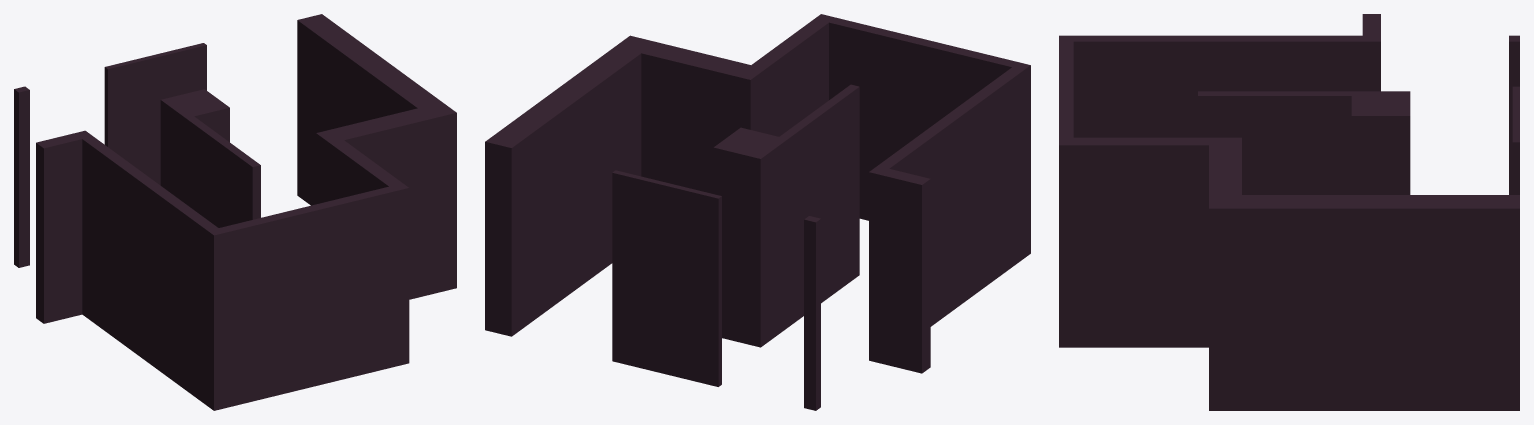
File: Chanks-5.obj
The picture shows the model from 3 angles, left to right: view 1: azimuth 30°, elevation 25°; view 2: azimuth 150°, elevation 25°; view 3: azimuth 270°, elevation 25°; orthographic projection. The views are drawn at different scales.
Size of the model in its own units: 12.6 by 6.1 by 12.6.
1 material, 1 textured.
